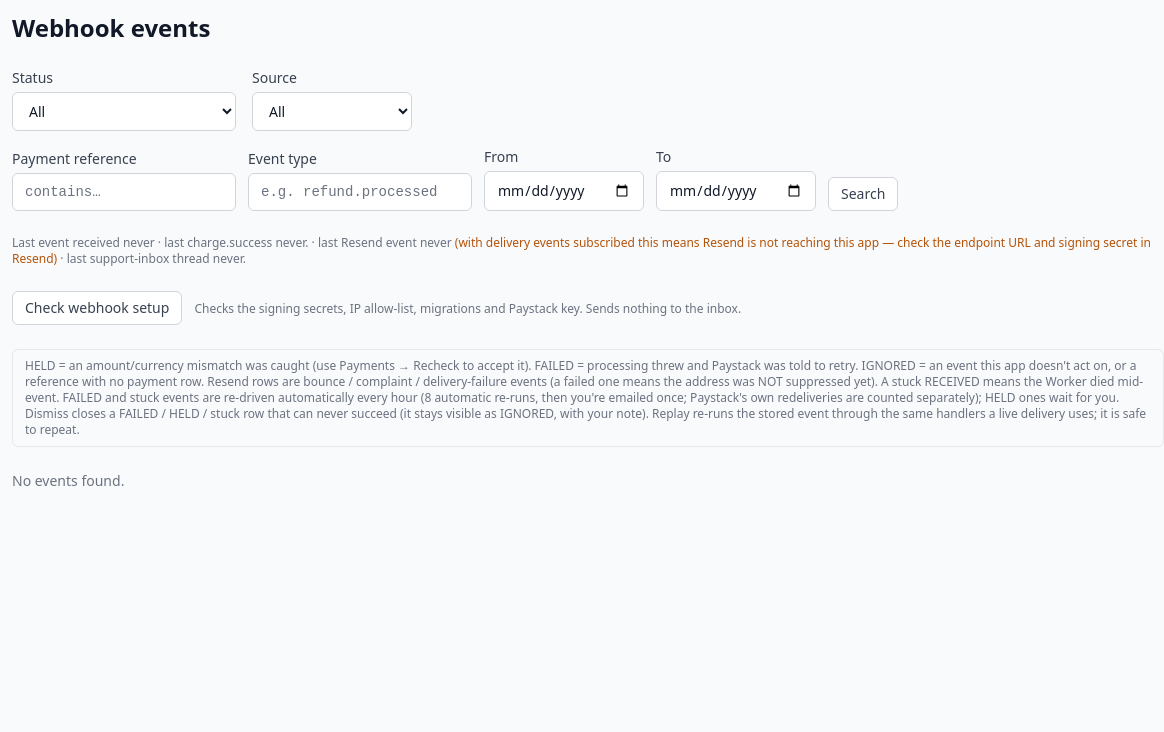
AdminWebhooks — setup check (round 18 G2) › lists every check with OK / CHECK / FIX and the URLs to register
The width and height of the screenshot is (1164, 732).
Click the button "Check webhook setup": (97, 308) [12,291,182,325]
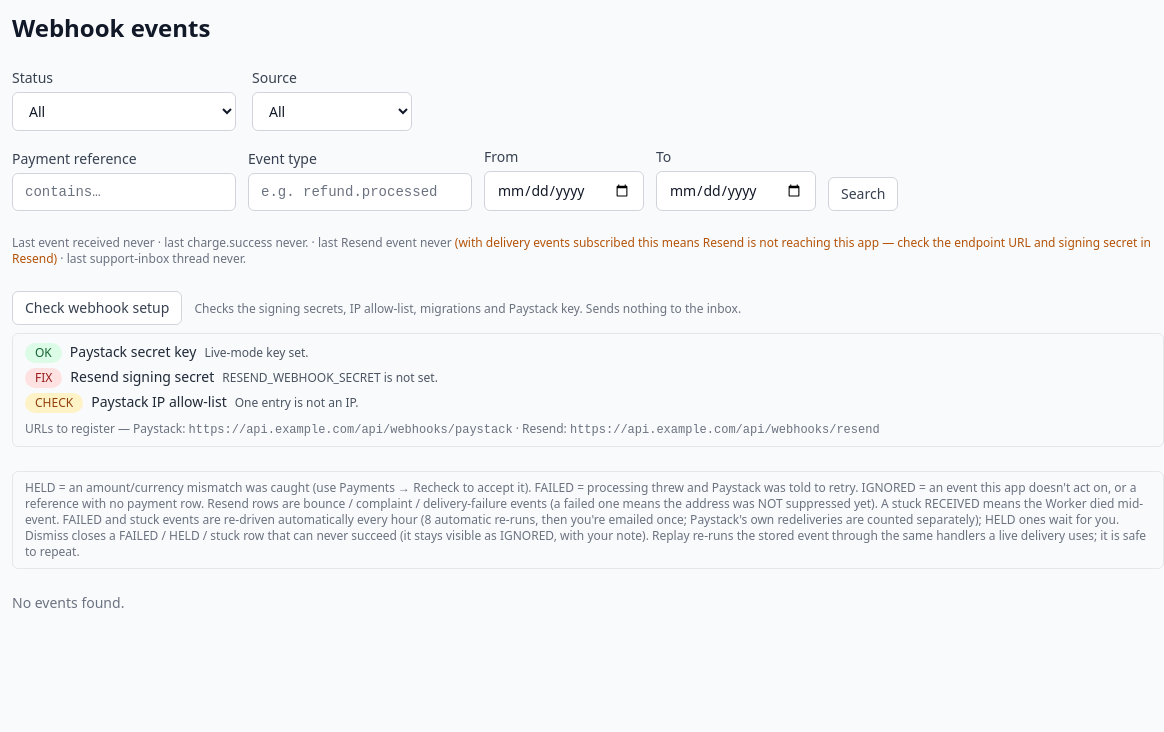
Check: the text "Resend signing secret" is shown, box [70,367,214,387]
Check: the text "OK" is shown, box [25,343,62,363]
Check: the text "FIX" is shown, box [25,368,62,388]
